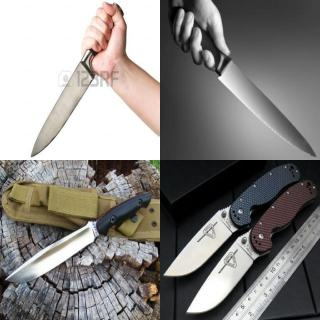knife: (190, 26, 318, 158), (29, 20, 113, 158), (2, 216, 104, 285), (162, 201, 238, 277), (183, 237, 255, 315)
